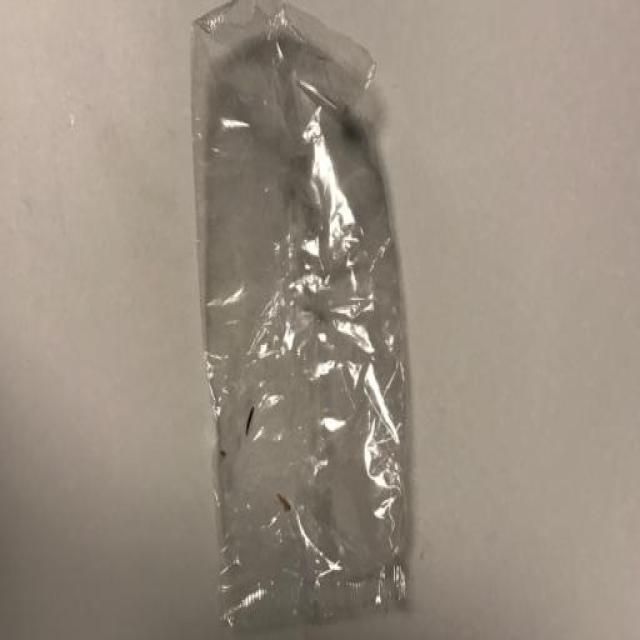Random Trash: (190, 0, 415, 640)
